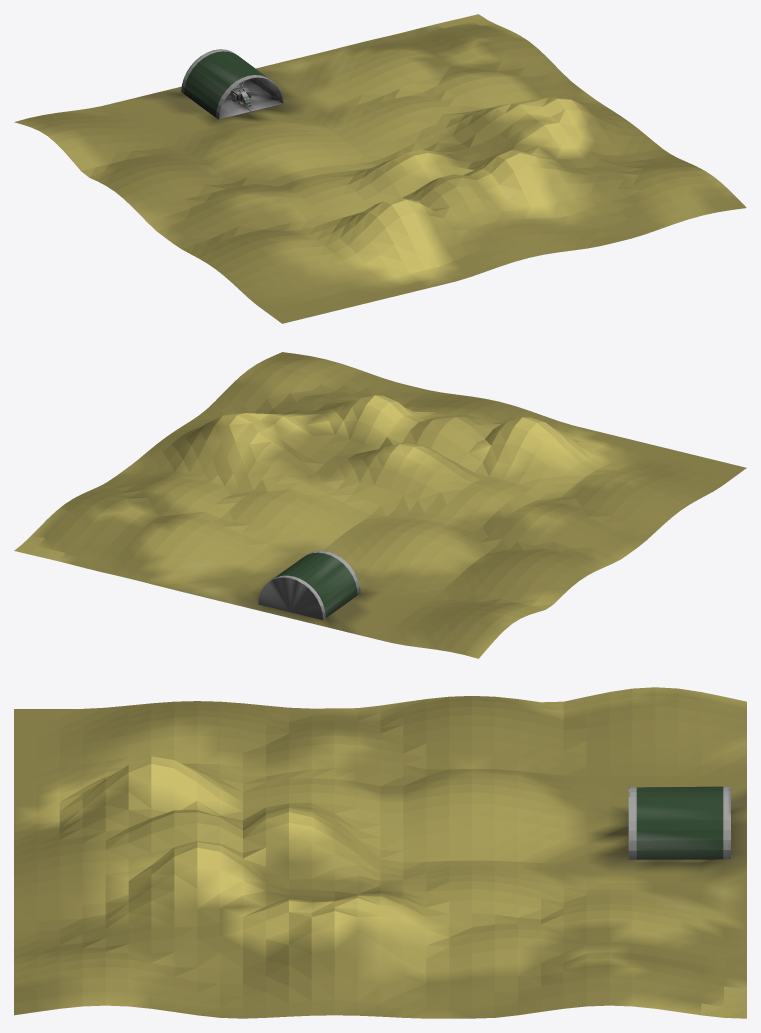
3 renders of one model, top to bottom at view 1: azimuth 30°, elevation 25°; view 2: azimuth 150°, elevation 25°; view 3: azimuth 270°, elevation 25°, orthographic. The views are drawn at different scales.
Parts seen in each view (by area): view 1: Plane, Cylinder; view 2: Plane, Cylinder; view 3: Plane, Cylinder.
Boxes of the visible parts, <box> form: Plane: <box>14,14,746,323</box>; Cylinder: <box>181,49,283,119</box>; Plane: <box>14,352,746,658</box>; Cylinder: <box>258,550,360,620</box>; Plane: <box>14,687,746,1018</box>; Cylinder: <box>628,786,730,859</box>.
Bounding box in the file's own units: 200 × 200 × 19.56.
